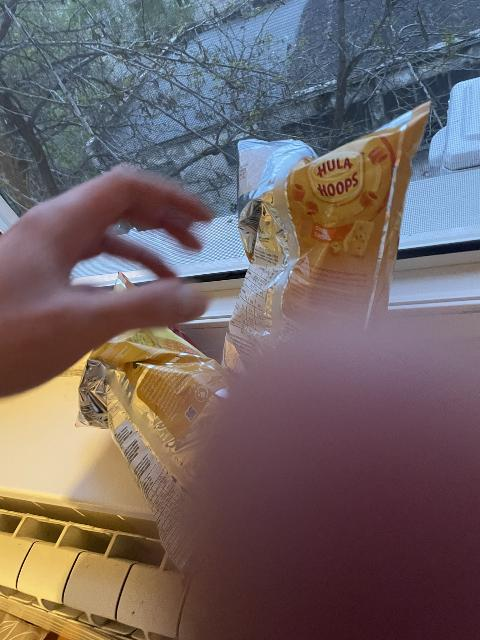Chio Cascaval 125g: (74, 271, 223, 562)
Chio Hula Hoops Cheese 70g: (222, 103, 433, 364)
